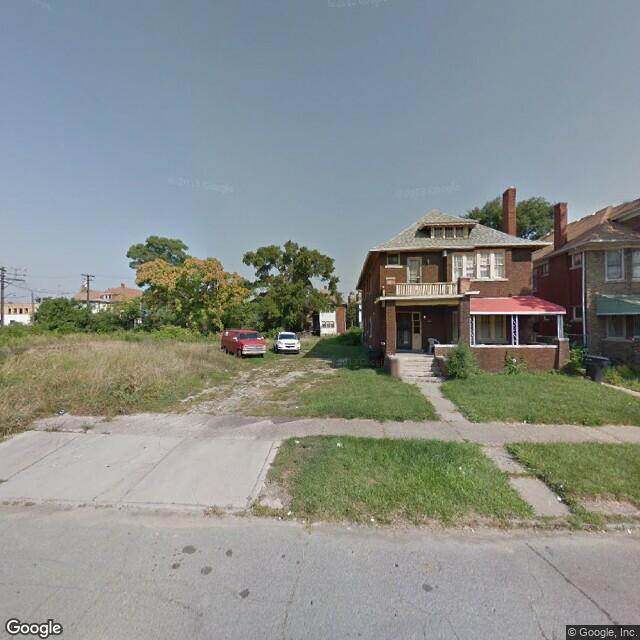litter: (279, 506, 298, 519), (363, 514, 380, 526), (554, 479, 569, 491), (291, 434, 303, 448), (551, 493, 567, 503), (456, 460, 466, 474), (332, 440, 347, 449)
